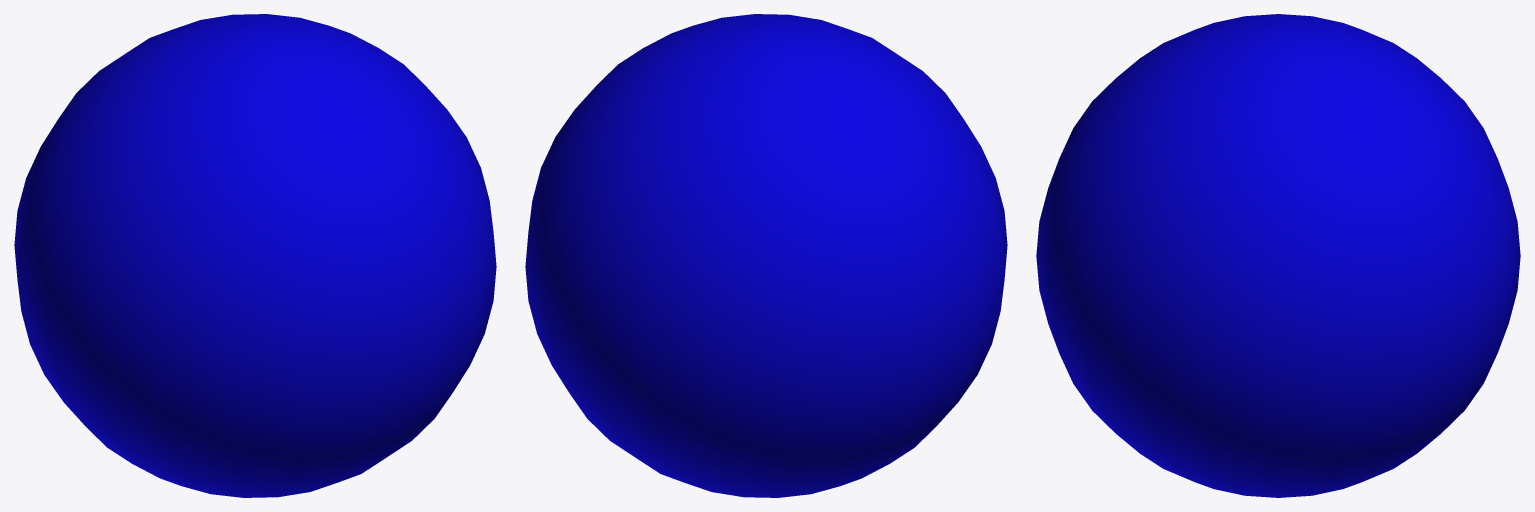
The model's file is Droidika_XT.fbx.
3 renders of one model, left to right at view 1: azimuth 30°, elevation 25°; view 2: azimuth 150°, elevation 25°; view 3: azimuth 270°, elevation 25°, orthographic.
Visible parts, largest first — view 1: pPipe9; view 2: pPipe9; view 3: pPipe9.
Boxes of the visible parts, <box> form: pPipe9: <box>14,14,496,497</box>; pPipe9: <box>525,14,1007,497</box>; pPipe9: <box>1036,14,1520,497</box>.
Size of the model in its own units: 22.64 by 22.64 by 22.64.
